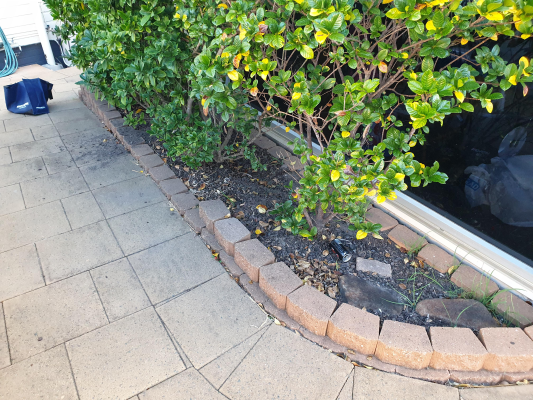Plastic Bottle: (329, 238, 352, 263)
